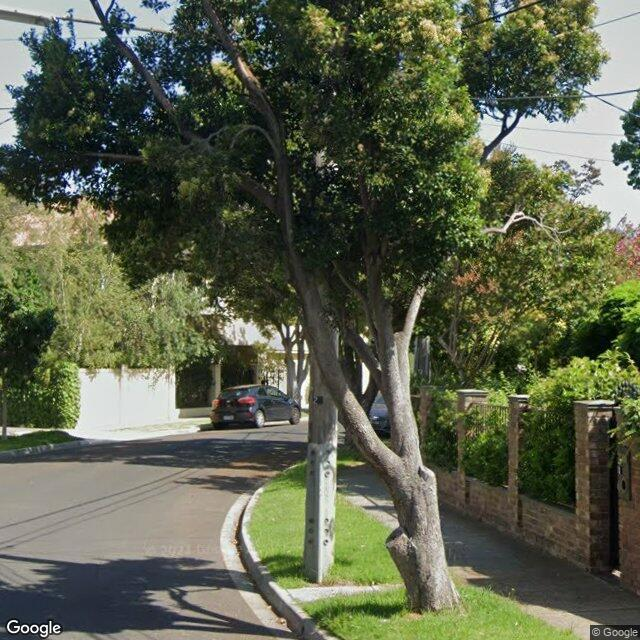timber-pole: (304, 281, 337, 583)
